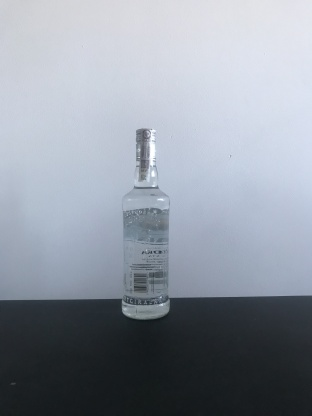nakretka: (133, 125, 158, 163)
